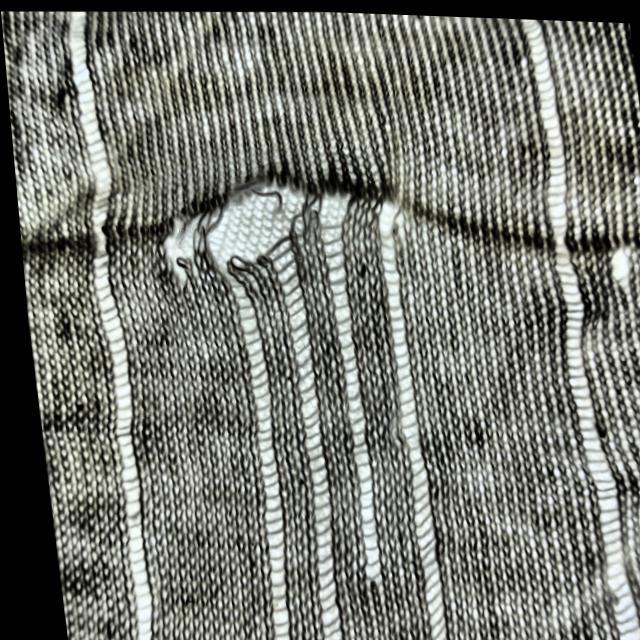Hole: (145, 216, 198, 291), (598, 236, 636, 294)
Stitch: (507, 15, 638, 640), (47, 9, 158, 640), (193, 200, 299, 640), (248, 166, 340, 640), (356, 173, 448, 640), (298, 161, 386, 584)
